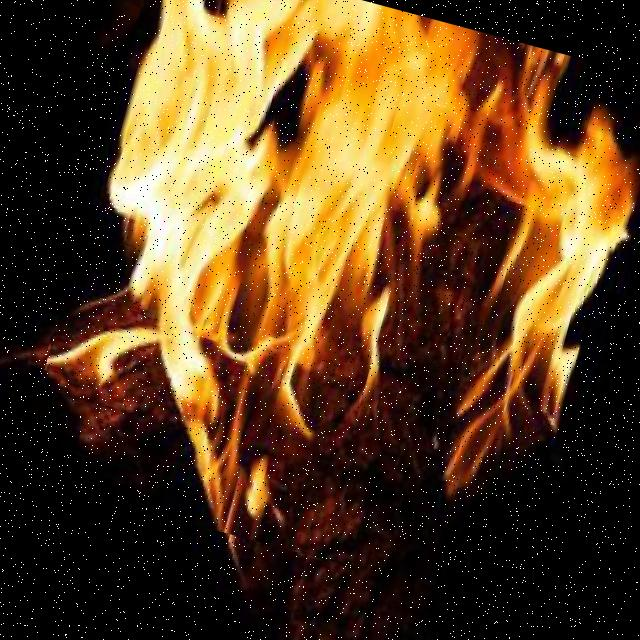fire: (15, 0, 640, 615)
